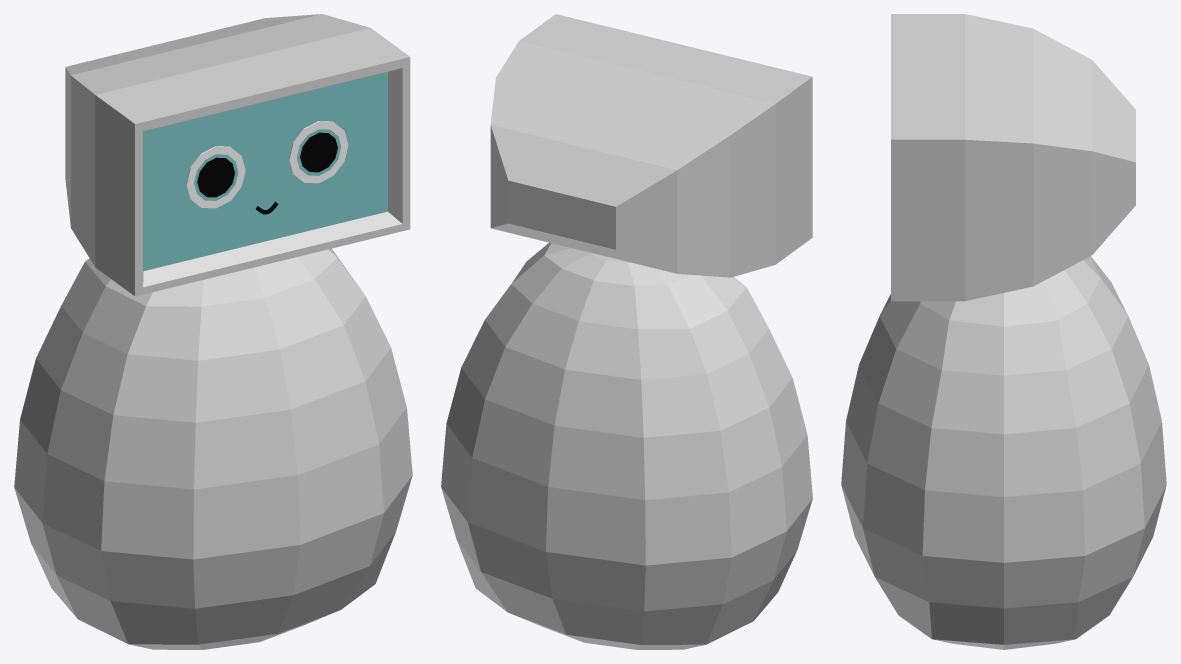
Rendered from emarV-X1.fbx.
3 views of the same model, side by side, from view 1: azimuth 30°, elevation 25°; view 2: azimuth 150°, elevation 25°; view 3: azimuth 270°, elevation 25° (orthographic). The views are drawn at different scales.
Parts seen in each view (by area): view 1: Body, Head, Right Eye, Left Eye; view 2: Body, Head; view 3: Body, Head.
Boxes of the visible parts, x1,y1,x2,y2 form: Body: (14, 248, 412, 649); Head: (65, 14, 410, 296); Right Eye: (186, 146, 245, 208); Left Eye: (289, 121, 348, 183); Body: (441, 242, 812, 649); Head: (490, 14, 812, 277); Body: (841, 256, 1166, 649); Head: (891, 14, 1135, 301).
Bounding box in the file's own units: 52.24 × 83.46 × 45.95.
